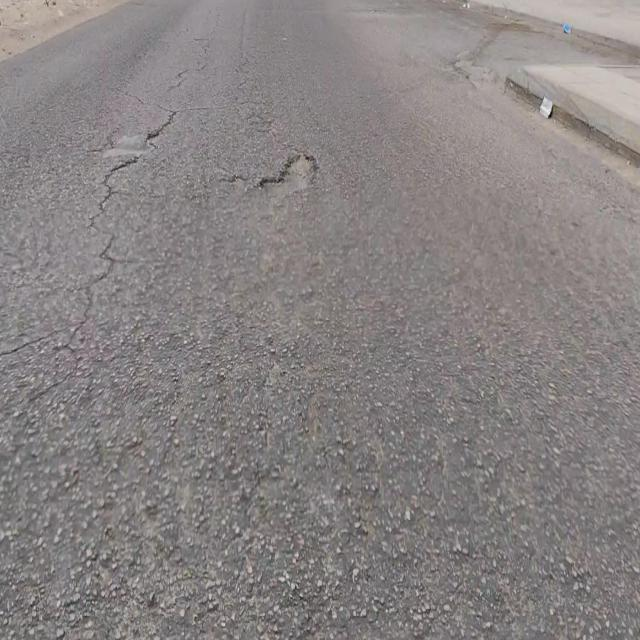Potholes: (259, 151, 320, 191)
